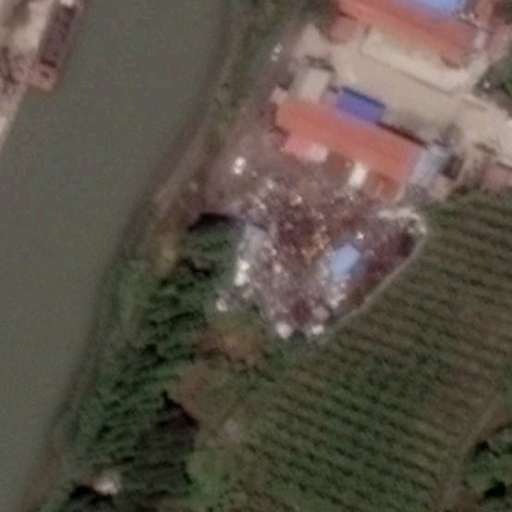msw: (237, 161, 424, 341)
